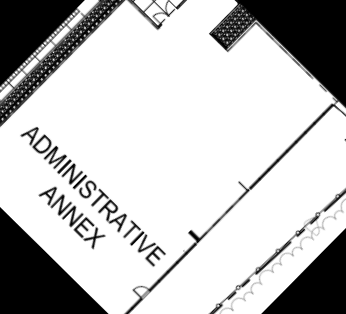door: (130, 280, 153, 303)
double door: (151, 0, 180, 26)
